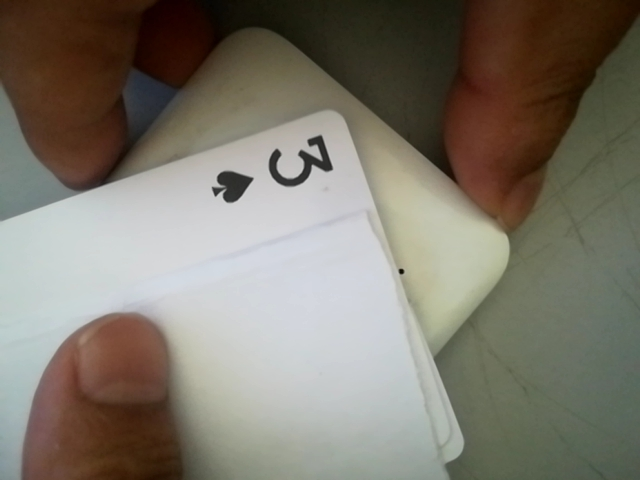ht 3: (199, 120, 353, 206)
